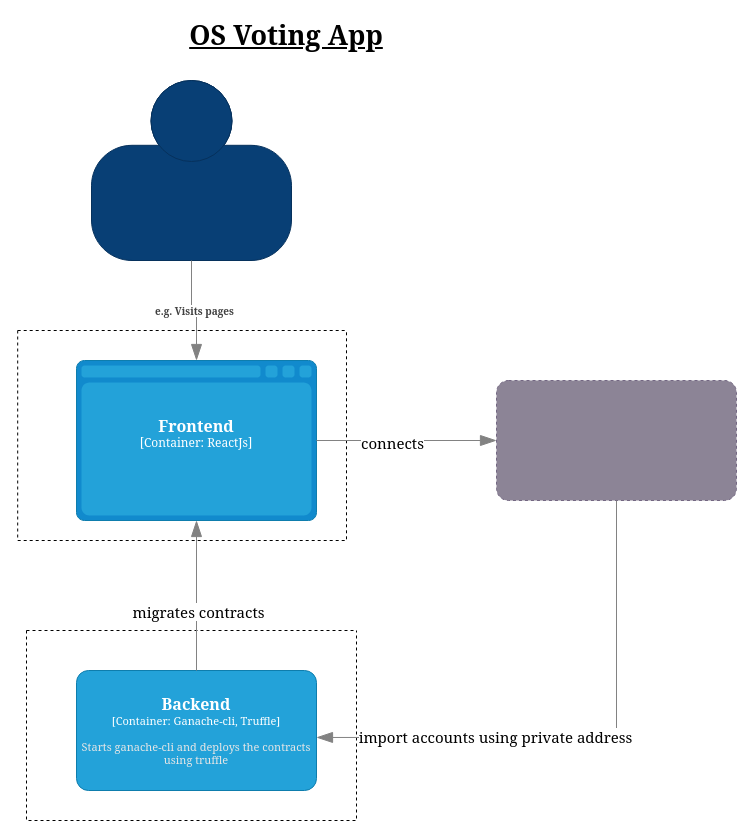
Some shapes in this 754 by 838 pixel diagram are drawn without their labels. The centre of each missing label's shape, as x and y in pixels:
"Metamask [Software] In Browser(Chrome)" goes at (616,440).
"User [Person] Employee" goes at (191,170).
